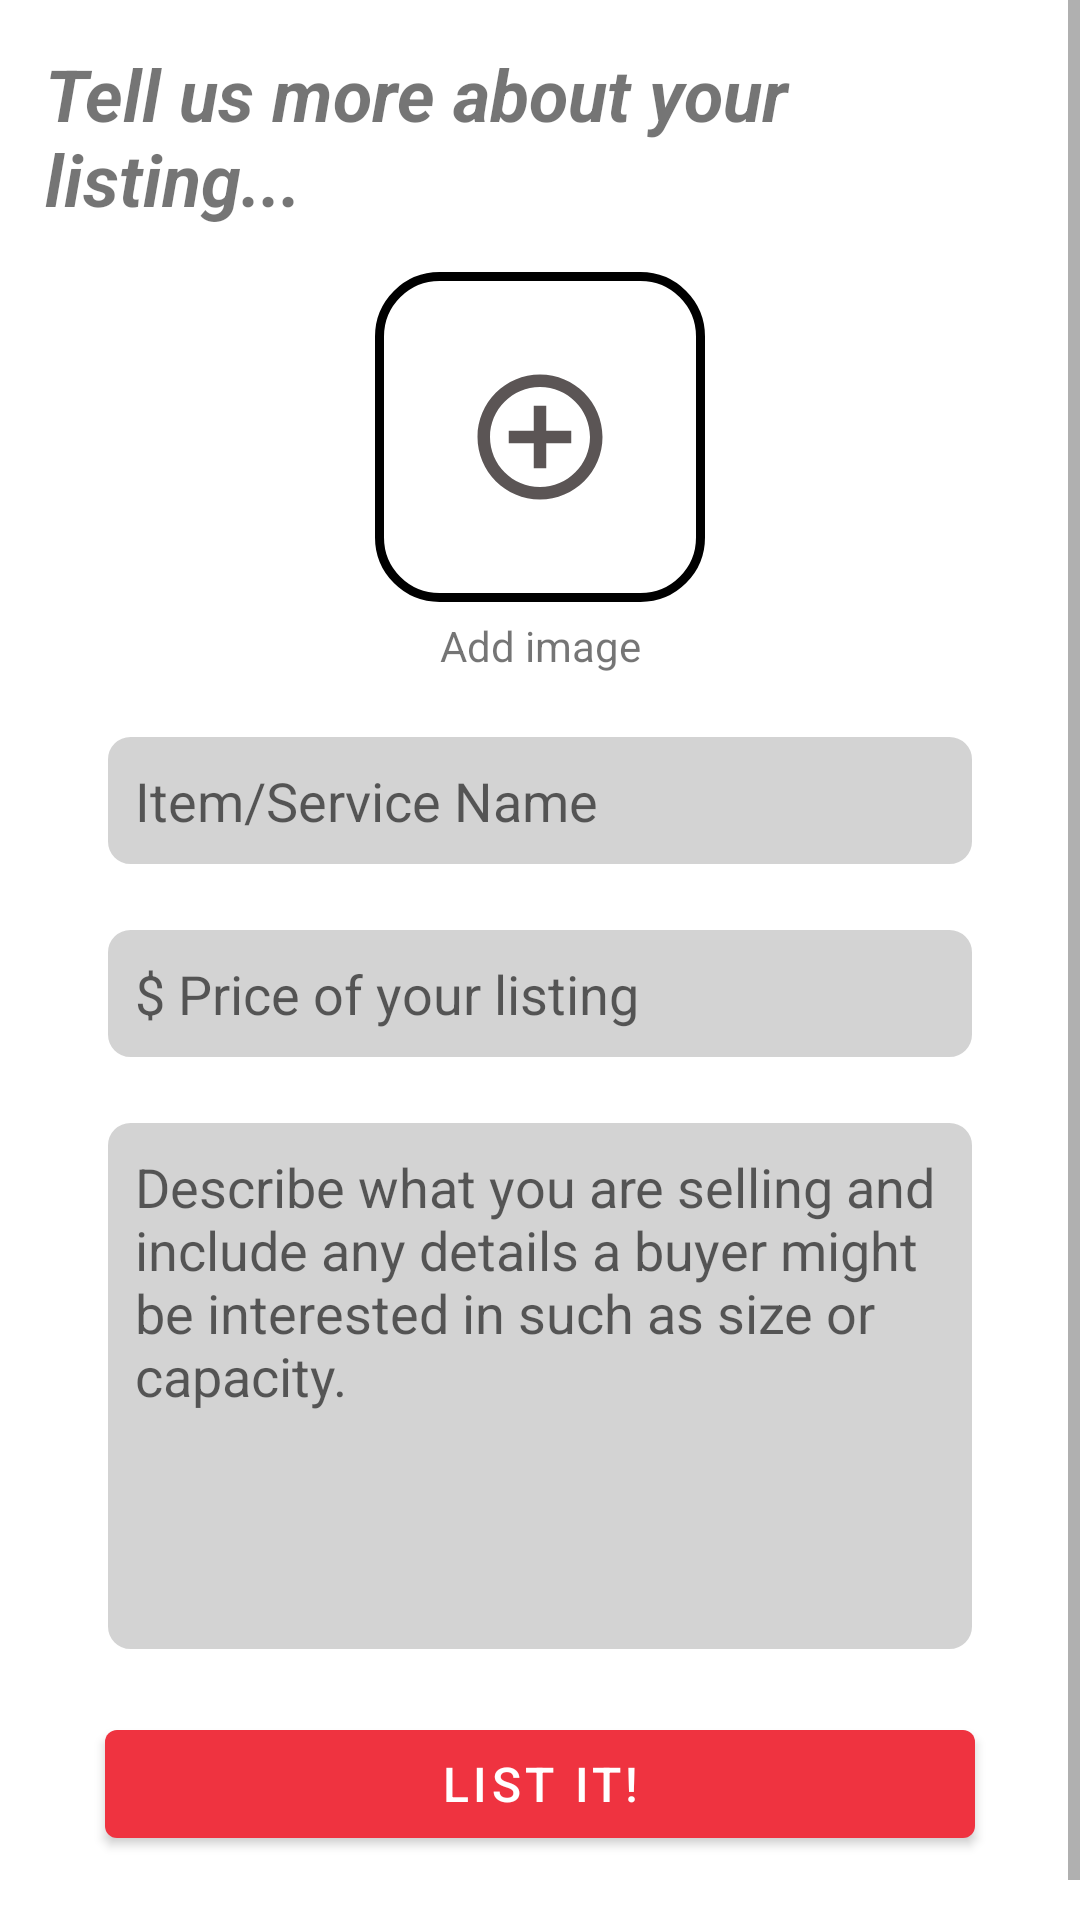

Screen size 1080*1920. Icon name, then its box in pixels as (x1, y1, x2, y2):
add circle: (375, 272, 705, 602)
